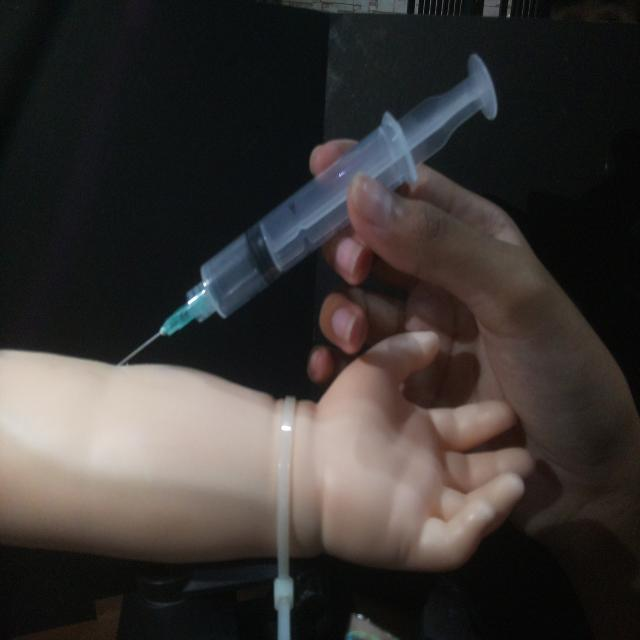30deg: (112, 49, 501, 369)
